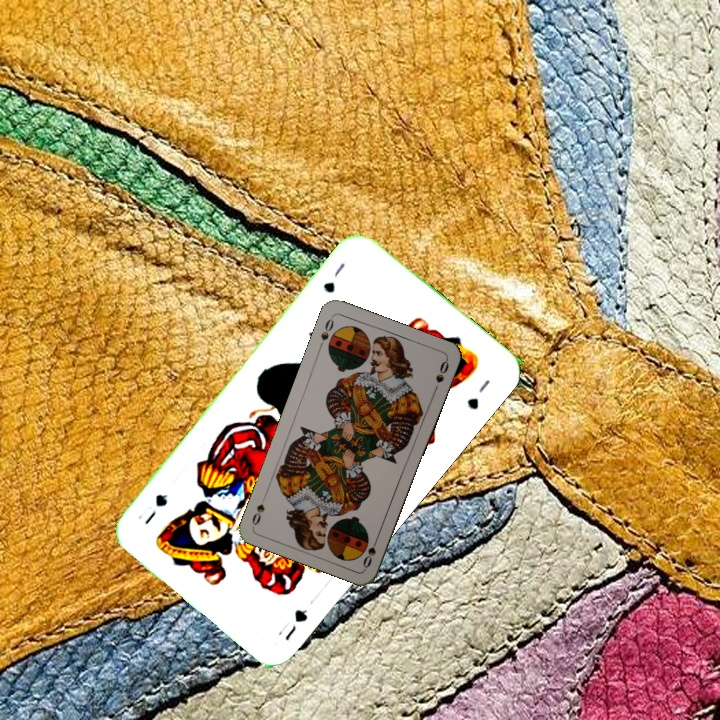GU: (273, 605, 311, 644), (318, 258, 348, 296)
SO: (359, 532, 382, 571), (315, 313, 336, 352)
